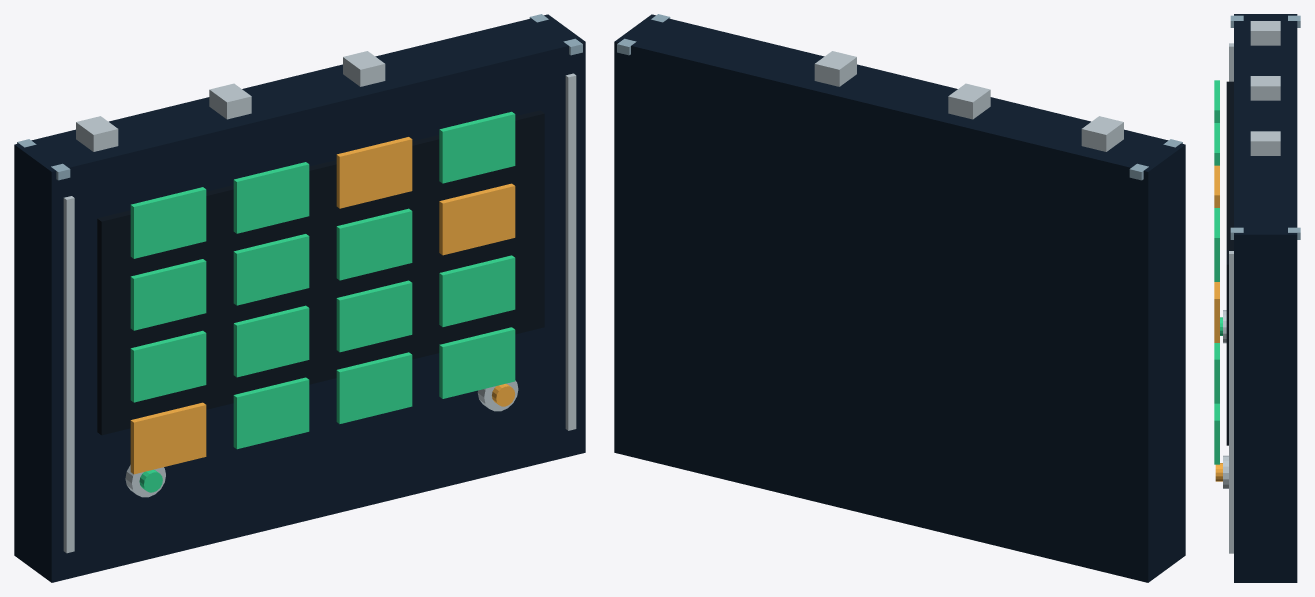
File: 44_L75_WaferDoseUniformityAnalyzer.fbx
The picture shows the model from 3 angles, left to right: view 1: azimuth 30°, elevation 25°; view 2: azimuth 150°, elevation 25°; view 3: azimuth 270°, elevation 25°; orthographic projection. The views are drawn at different scales.
Parts seen in each view (by area): view 1: WaferDoseUniformityAnalyzer; view 2: WaferDoseUniformityAnalyzer; view 3: WaferDoseUniformityAnalyzer.
Part boxes in pixels (x1,y1,x2,y2): WaferDoseUniformityAnalyzer: (14,14,585,582); WaferDoseUniformityAnalyzer: (614,14,1185,582); WaferDoseUniformityAnalyzer: (1214,14,1300,582).
Bounding box in the file's own units: 140 × 107 × 23.1.
